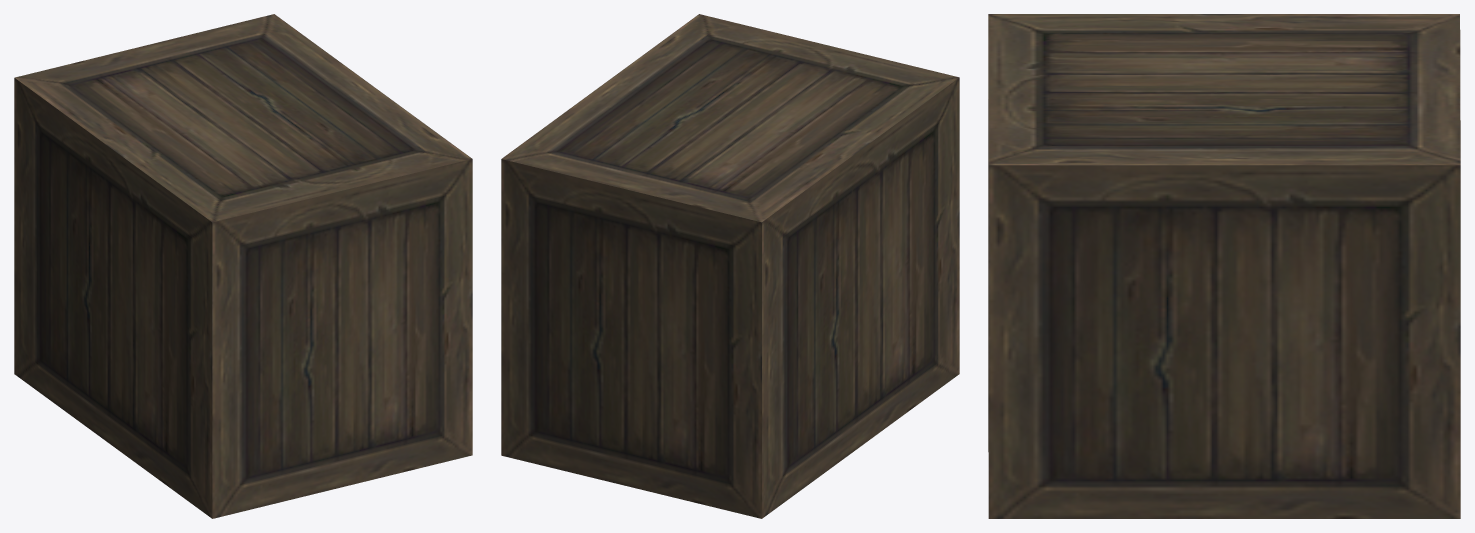
The model's file is s7_fightpve_muxiang.FBX.
3 views of the same model, side by side, from view 1: azimuth 30°, elevation 25°; view 2: azimuth 150°, elevation 25°; view 3: azimuth 270°, elevation 25° (orthographic). The views are drawn at different scales.
Visible parts, largest first — view 1: Object02; view 2: Object02; view 3: Object02.
Boxes of the visible parts, left/top/right/bottom form: Object02: left=14, top=14, right=472, bottom=518; Object02: left=501, top=14, right=959, bottom=518; Object02: left=988, top=14, right=1460, bottom=518.
Size of the model in its own units: 0.5948 by 0.6472 by 0.7837.
